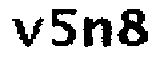5: (48, 5, 77, 48)
8: (116, 7, 151, 49)
n: (81, 16, 111, 50)
v: (8, 14, 45, 49)
